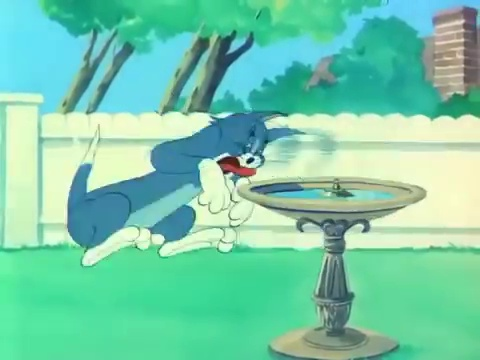tom: (190, 108, 309, 176)
